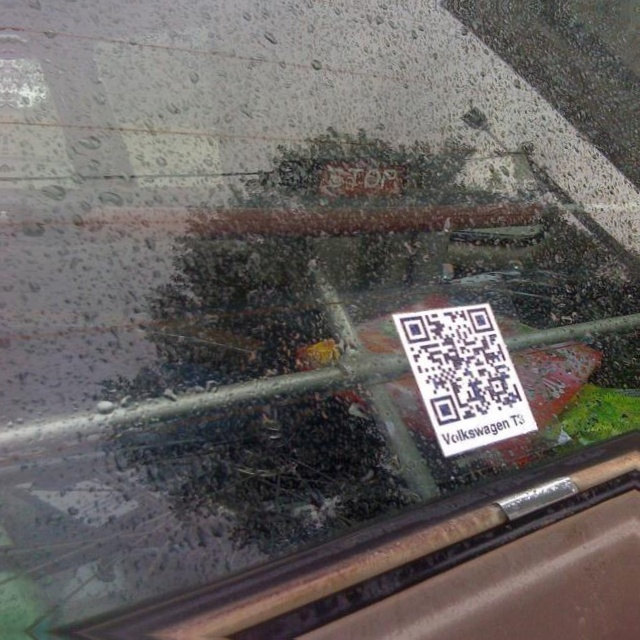qr-code: (396, 305, 526, 428)
